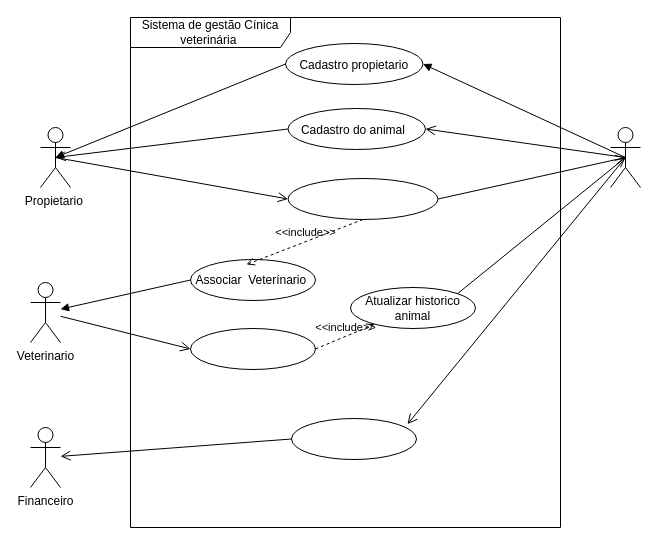
This 670x545 diagram has some shape labels left out. Each missing label, with the centre of its shape:
"agendamento da consulta" goes at point (362, 199).
"Atendente" goes at point (625, 157).
"Diagnóstico" goes at point (253, 349).
"Gerar Relatorio" goes at point (353, 439).
